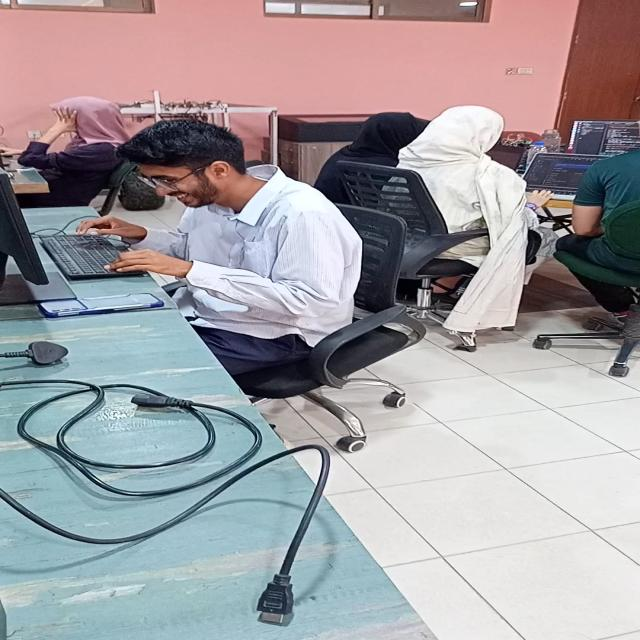dress: (163, 161, 378, 339)
